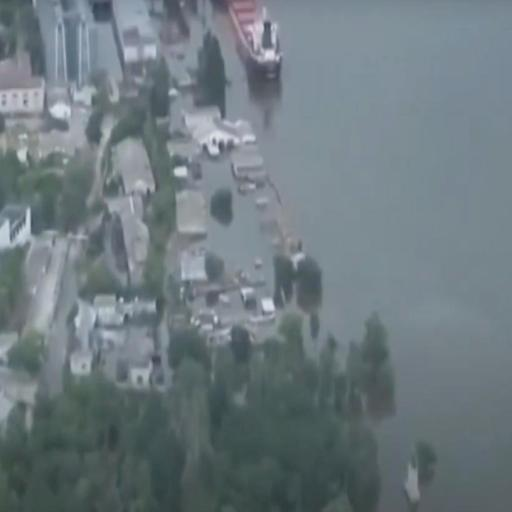flood: (201, 0, 512, 512)
house: (108, 134, 158, 196), (0, 54, 47, 118), (172, 182, 210, 240), (195, 112, 241, 154), (0, 197, 38, 241), (122, 26, 156, 62), (123, 346, 152, 388), (94, 292, 120, 326)
